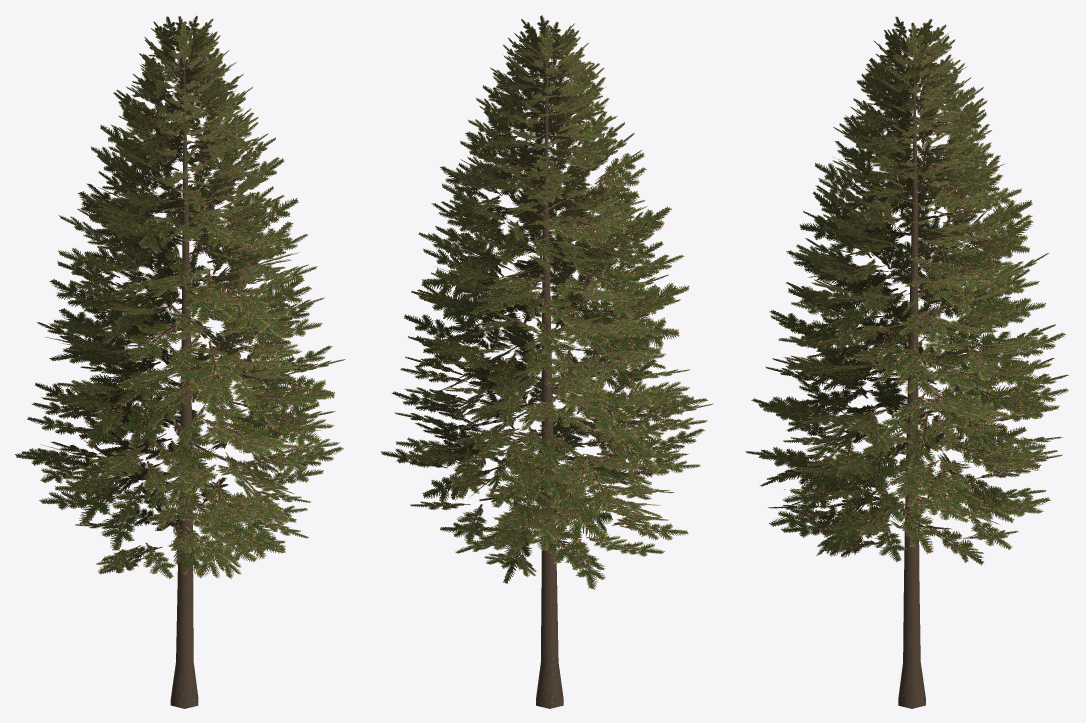
File: fir_tall_a_lod2.gltf
3 renders of one model, left to right at view 1: azimuth 30°, elevation 25°; view 2: azimuth 150°, elevation 25°; view 3: azimuth 270°, elevation 25°, orthographic.
Parts seen in each view (by area): view 1: fir_tall_a_LOD2; view 2: fir_tall_a_LOD2; view 3: fir_tall_a_LOD2.
Boxes of the visible parts, x1,y1,x2,y2 form: fir_tall_a_LOD2: [15, 15, 345, 708]; fir_tall_a_LOD2: [380, 15, 713, 708]; fir_tall_a_LOD2: [745, 16, 1068, 708].
Bounding box in the file's own units: 13.36 × 30.61 × 13.44.
2 materials, 2 textured.
